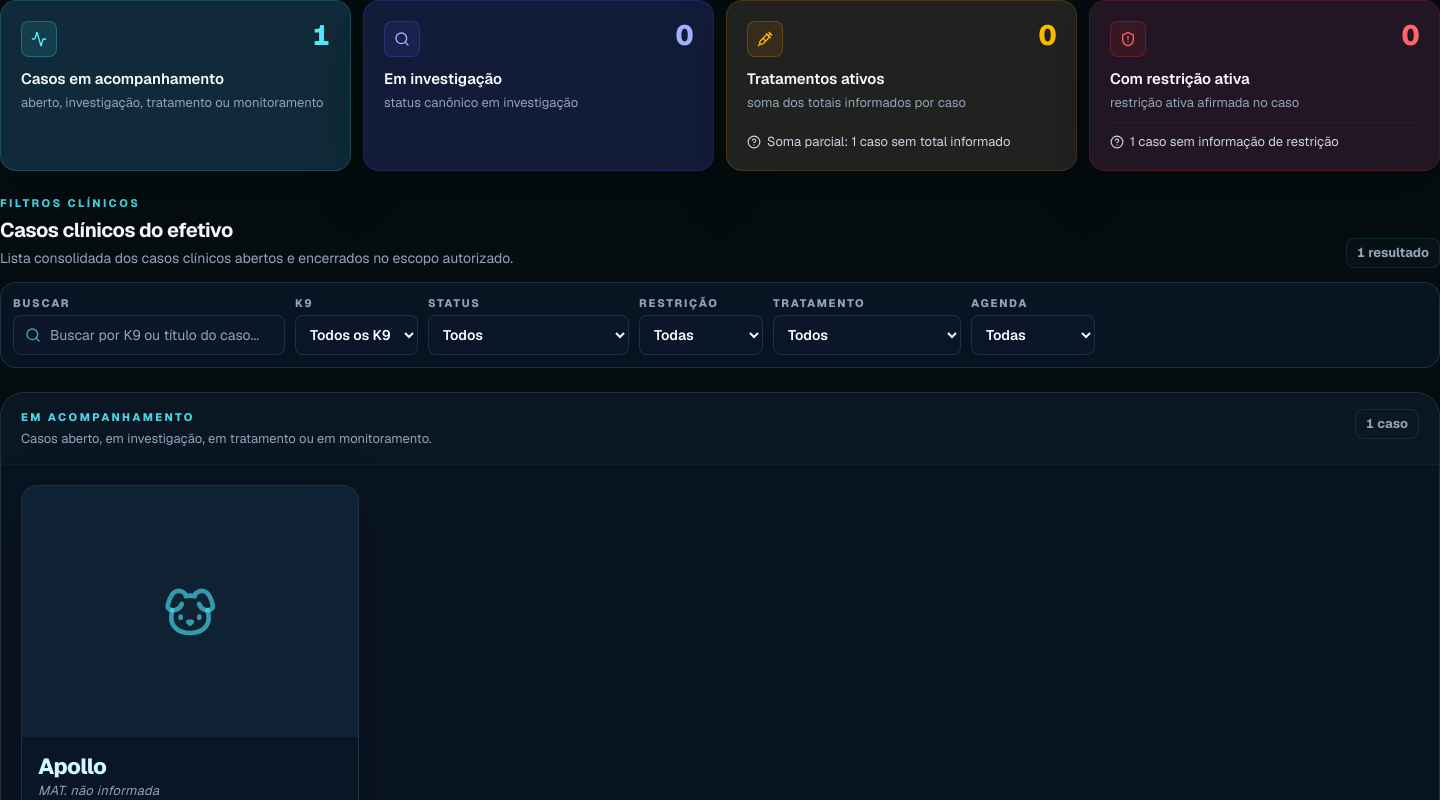
Scenario: HW-6A.I3 — ClinicalView filtering › 12. a filter that matches nothing shows filter-empty, not scope-empty
The image size is (1440, 800).
Type "zzz-nao-existe" into the search field labelled "Buscar por K9 ou título do caso...". click: (149, 335)
box: [13,315,285,355]
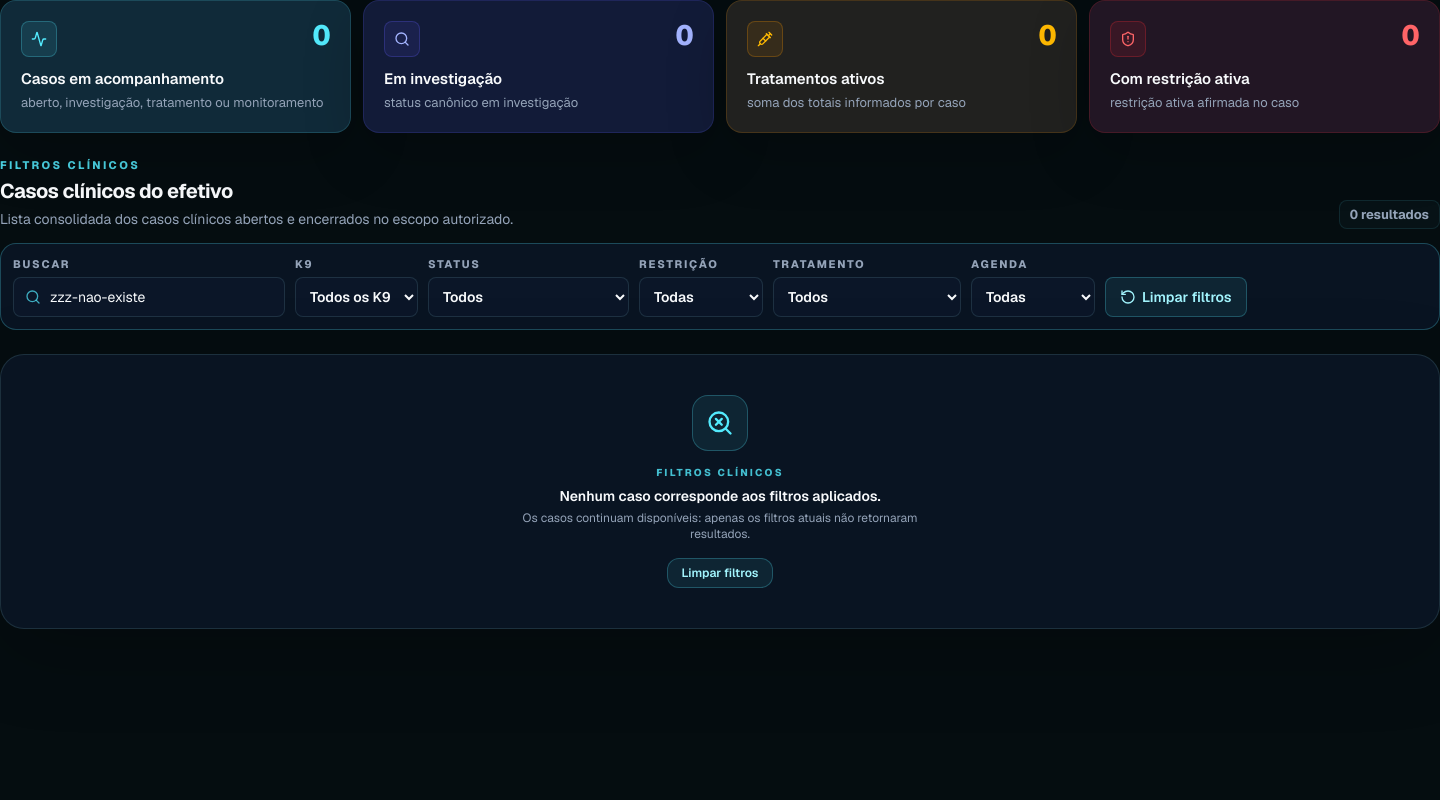
Check: the element with test id "clinical-filter-empty" is shown, box [0,354,1439,628]
